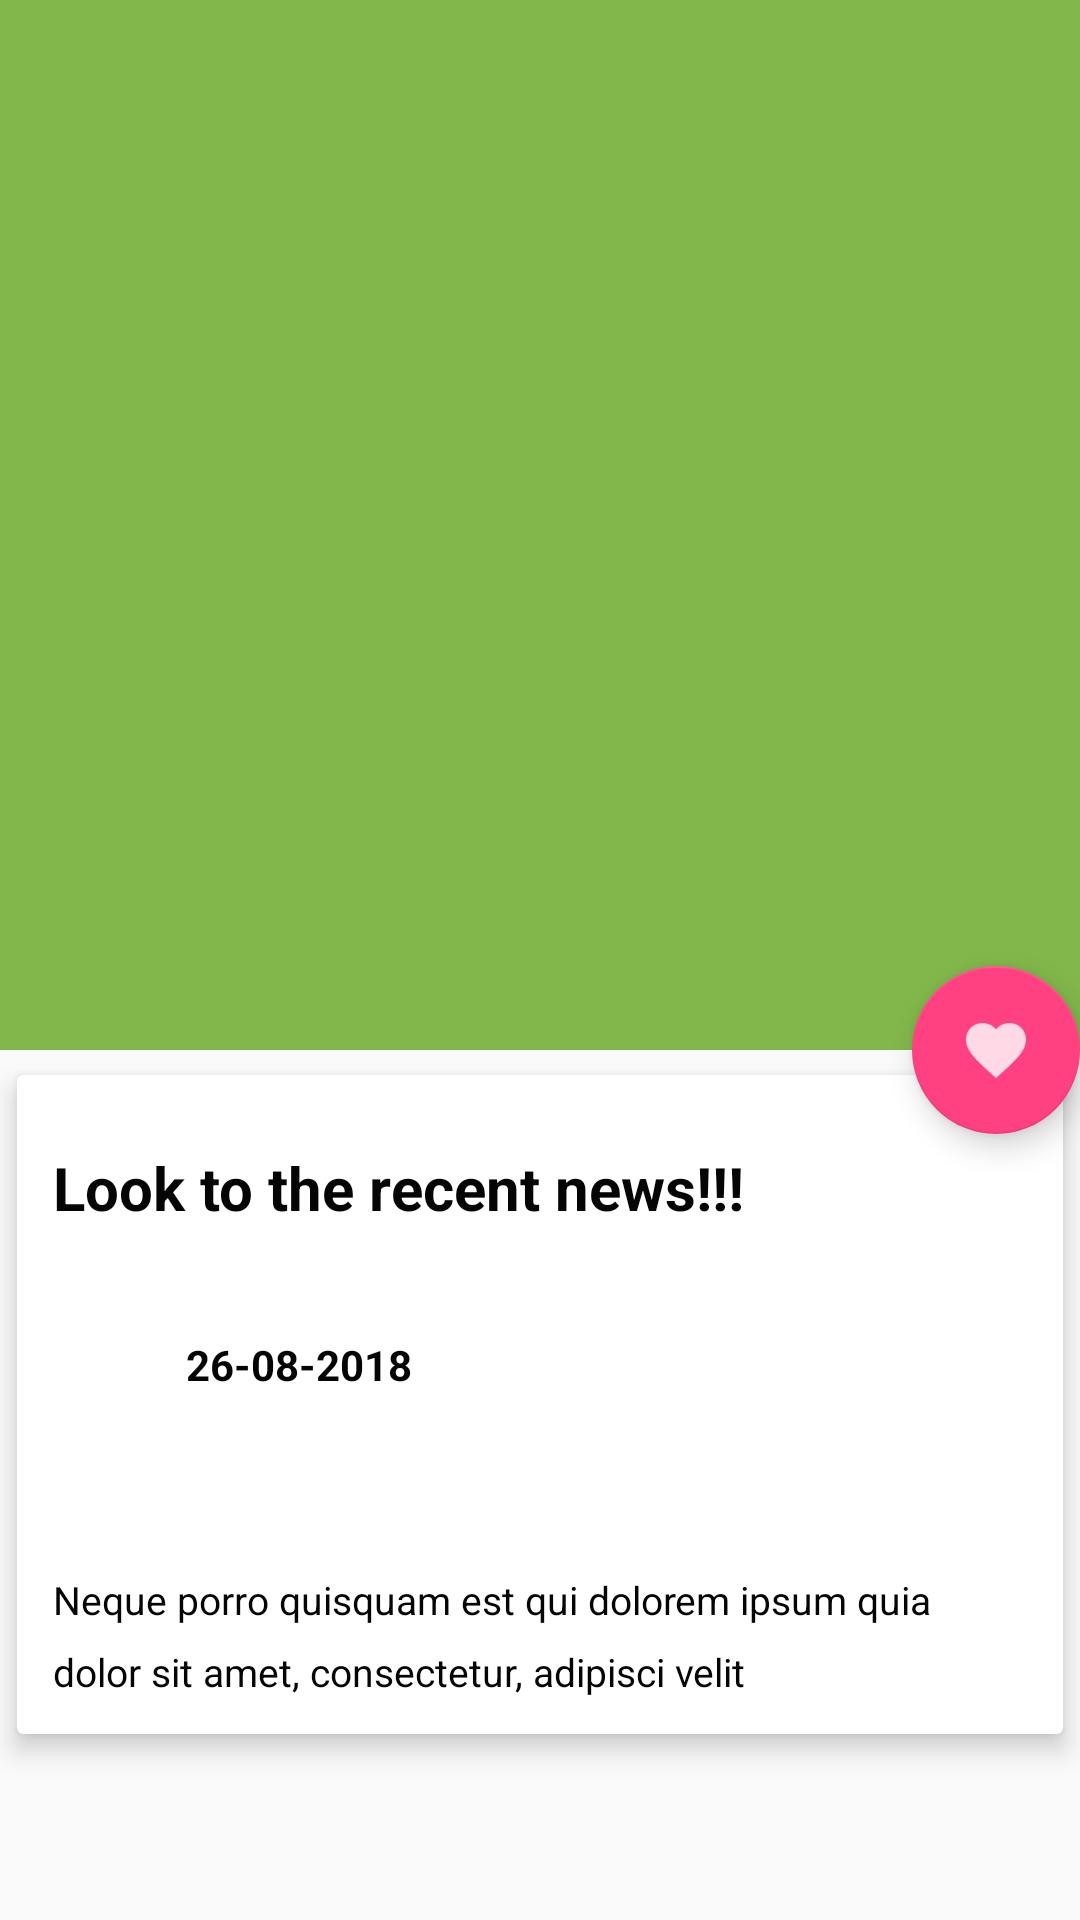

Named icons in this screenshot (1080w x 1920h) and their centers, [x,y]:
fav: [996,1050]
